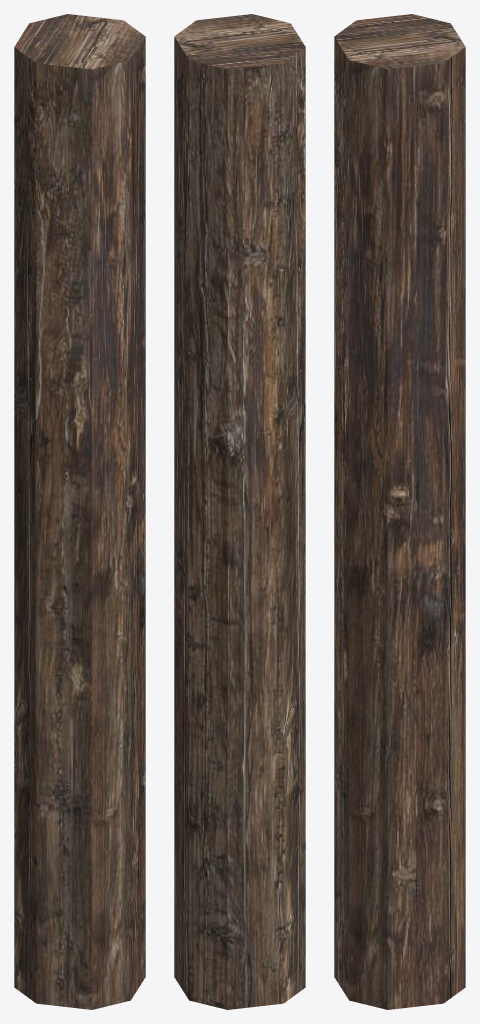
Rendered from FencePole.fbx.
3 renders of one model, left to right at view 1: azimuth 30°, elevation 25°; view 2: azimuth 150°, elevation 25°; view 3: azimuth 330°, elevation 25°, orthographic.
Parts seen in each view (by area): view 1: FencePole; view 2: FencePole; view 3: FencePole.
Boxes of the visible parts, box(x1,y1,x2,y2) form: FencePole: box(14, 14, 145, 1009); FencePole: box(174, 14, 305, 1009); FencePole: box(334, 14, 465, 1009).
Bounding box in the file's own units: 18.3 × 150 × 18.28.
1 material, 1 textured.
